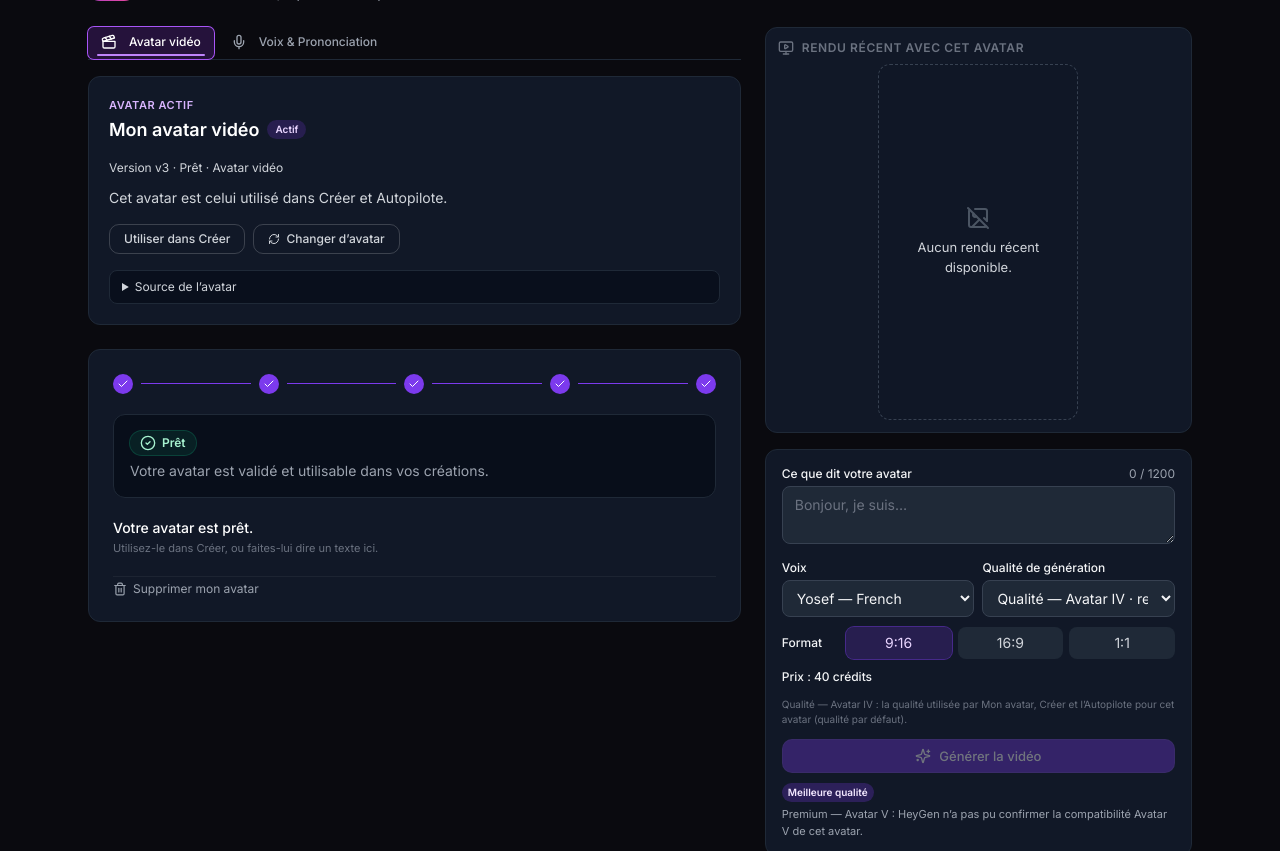
Test case: Page Mon avatar › ⚠️ une erreur arrête la progression : statut erreur, étape fautive, motif
The image size is (1280, 851).
Type "Bonjour." into the text box with placeholder "Bonjour, je suis…".
click(978, 514); type("Bonjour.")  # box x1=782 y1=486 x2=1175 y2=544
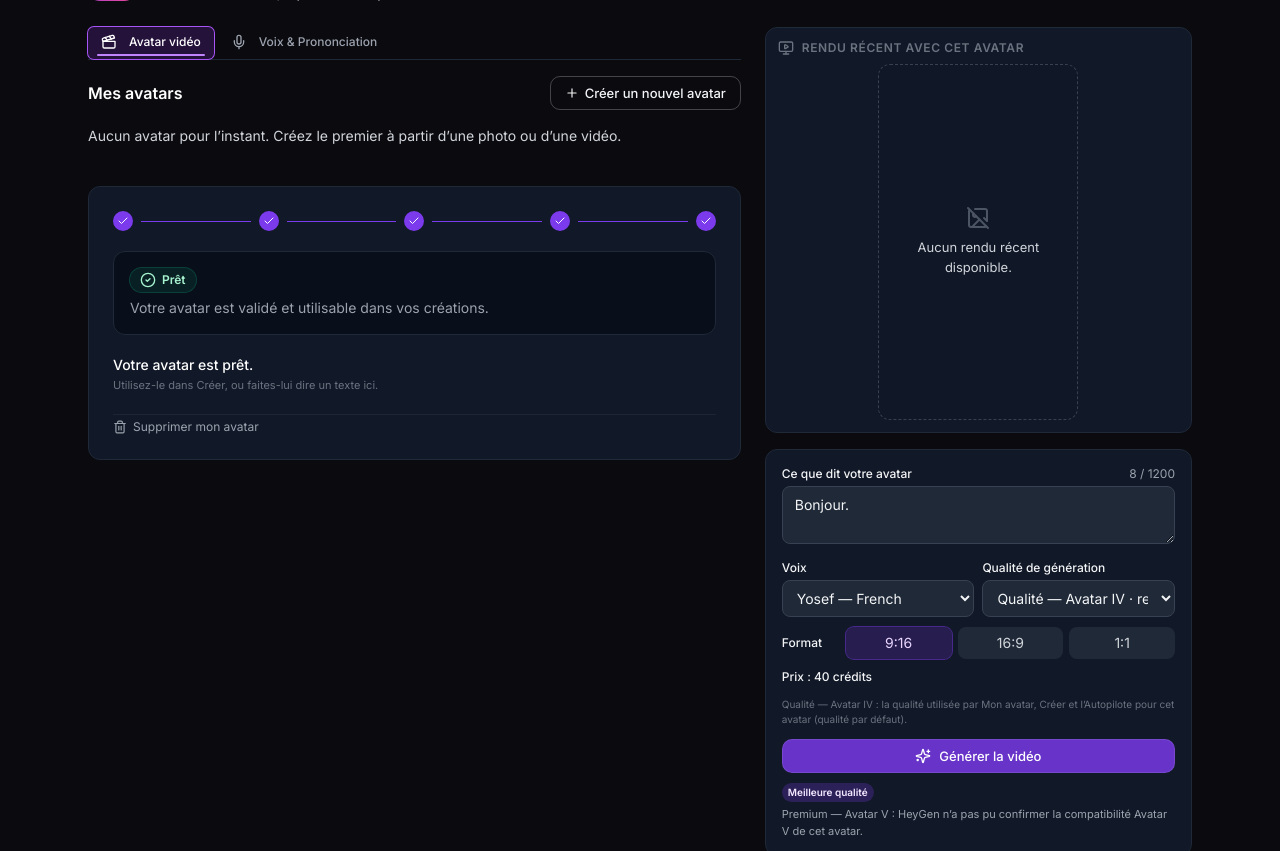
Click the button "Générer la vidéo".
click(978, 756)  # box x1=782 y1=739 x2=1175 y2=773
(page scrolled)
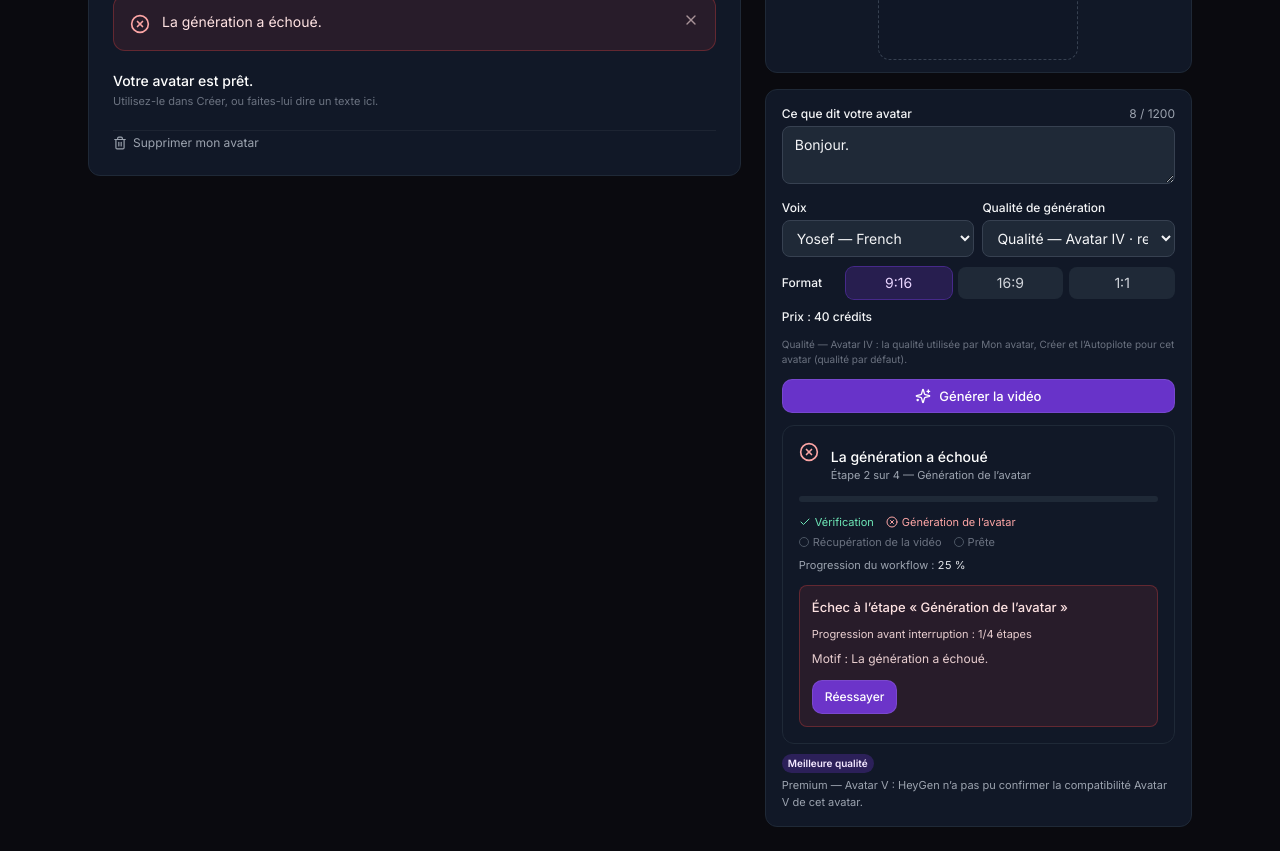
expect the list item "Génération de l’avatar" is shown: met, box x1=886 y1=514 x2=1016 y2=530
